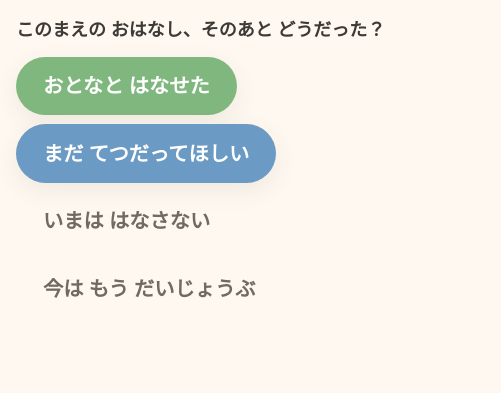
Scenario: keeps the question on failed save without success or navigation, then allows retry
What coordinates should you click on to do the following:
click the button "今は もう だいじょうぶ"
I would click on:
 (149, 288)
Its box is [16,259,282,318].
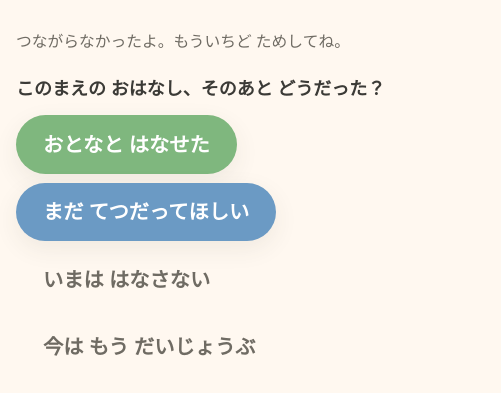
Check: the message "つながらなかったよ。もういちど ためしてね。" is shown, box [16,30,350,52]
What coordinates should you click on to do the following:
click the button "今は もう だいじょうぶ"
I would click on:
 (149, 347)
Its box is [16,318,282,376].
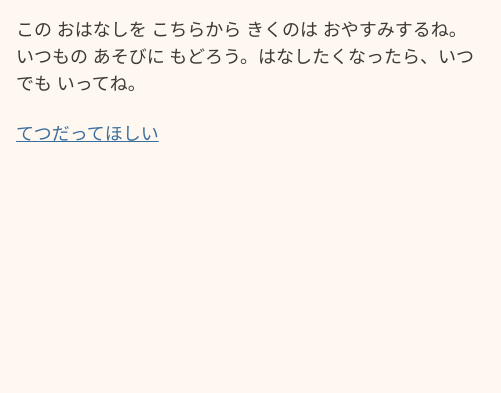
Check: the message "この おはなしを こちらから きくのは おやすみするね。いつもの あそびに もどろう。はなしたくなったら、いつでも いってね。" is shown, box [16,16,484,97]
